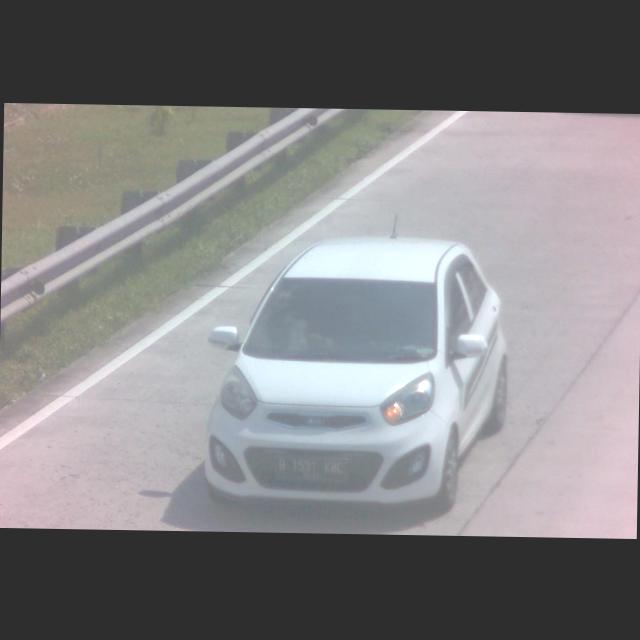plate: (274, 454, 346, 481)
